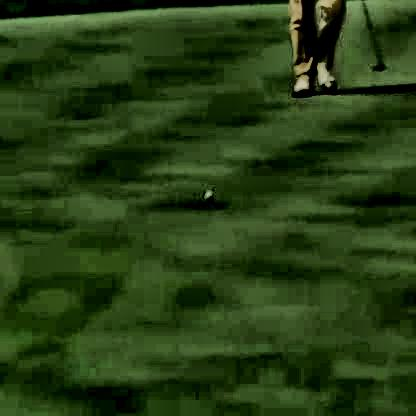golfball: (201, 189, 212, 199)
